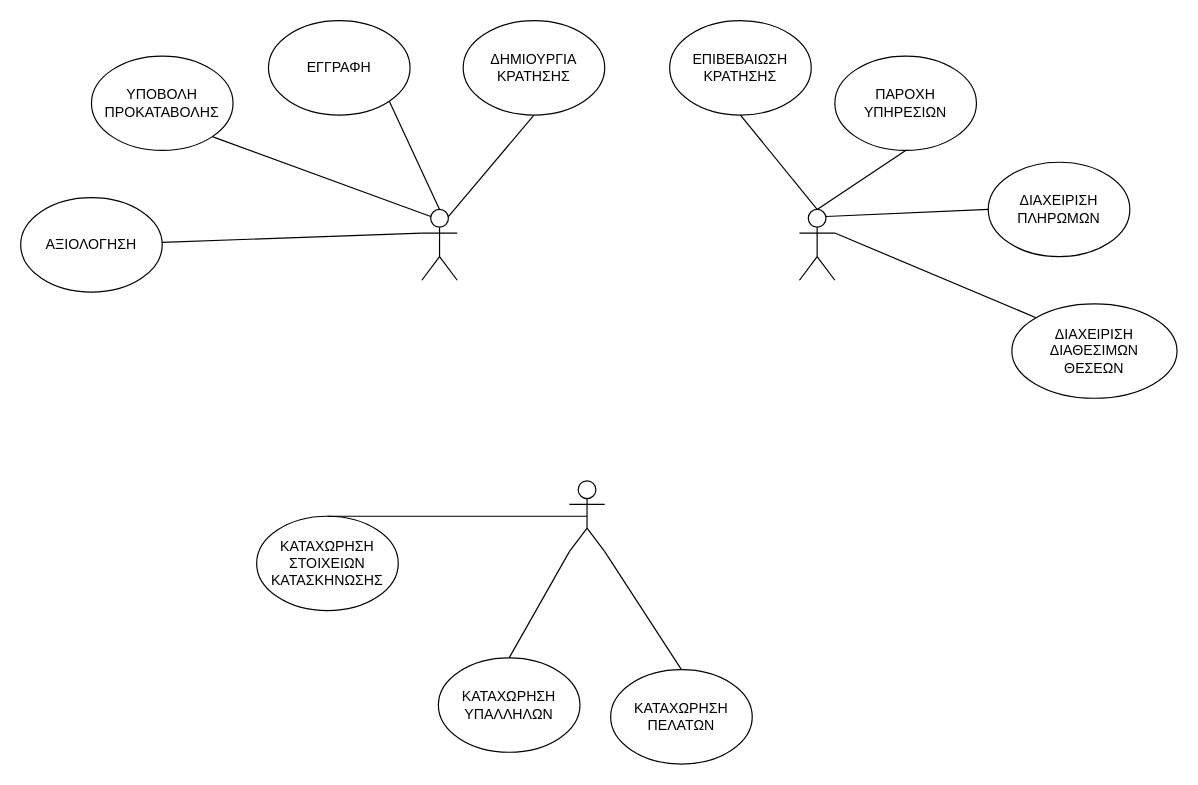
Some shapes in this 1198 by 785 pixel diagram are drawn without their labels. Each missing label, with the centre of its shape:
"ΔΙΑΧΕΙΡΙΣΤΗΣ ΣΥΣΤΗΜΑΤΟΣ" goes at (586,516).
"ΠΕΛΑΤΗΣ" goes at (439,244).
"ΥΠΑΛΛΗΛΟΣ" goes at (816,244).
